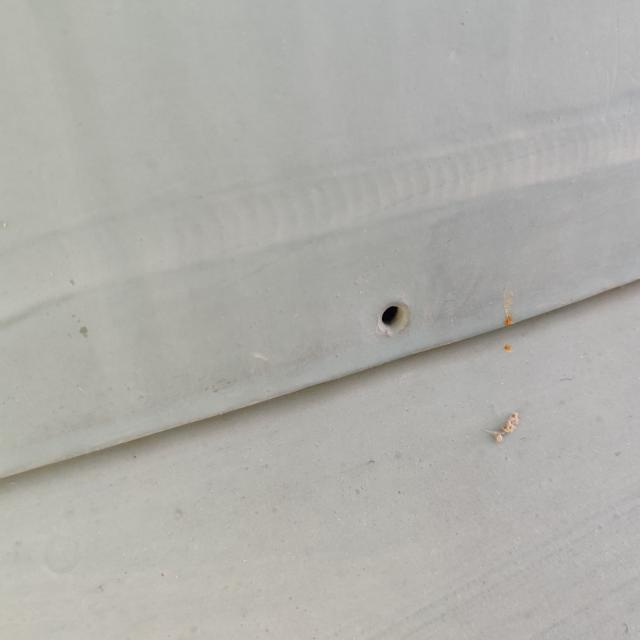missing-head: (356, 277, 433, 362)
